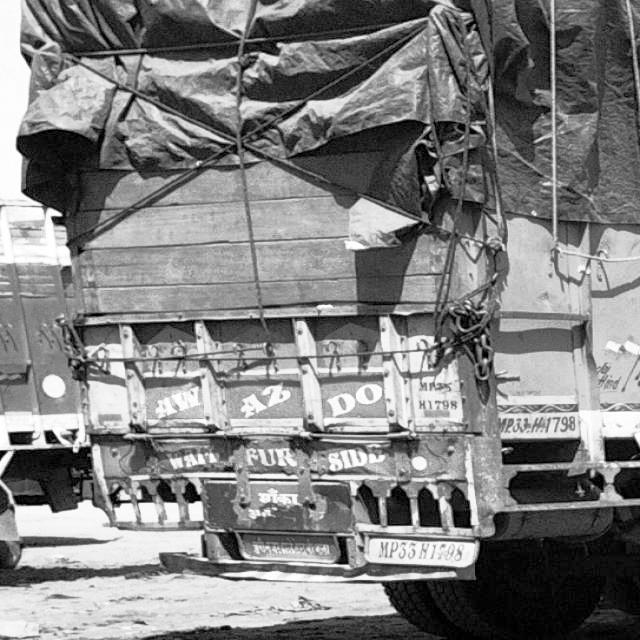HCV: (21, 1, 640, 633)
